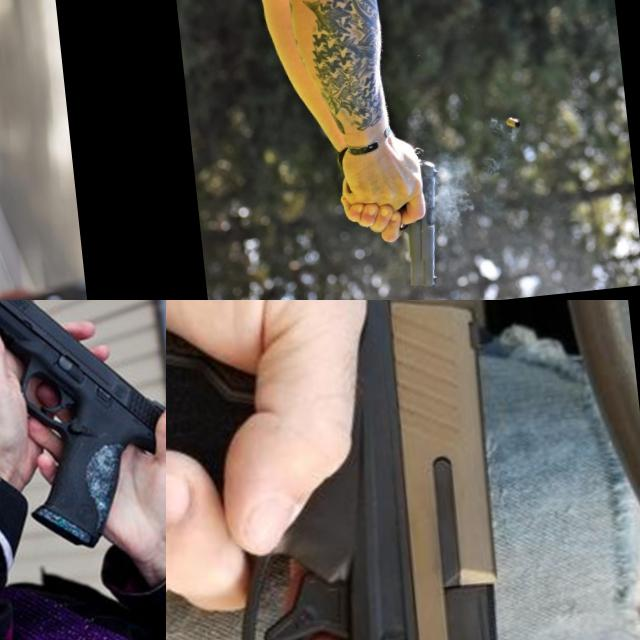handgun: (166, 300, 536, 640), (0, 300, 166, 564), (386, 142, 452, 293), (0, 113, 46, 233)
